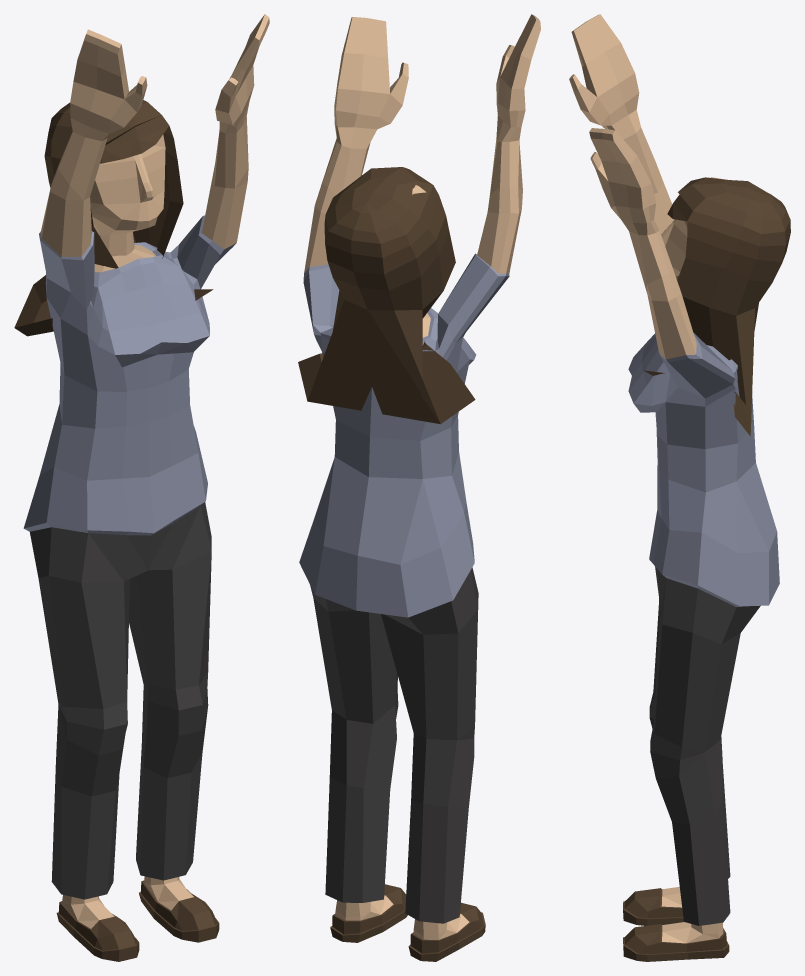
File: Female_Crowd_BothFistsUp.glb
3 views of the same model, side by side, from view 1: azimuth 30°, elevation 25°; view 2: azimuth 150°, elevation 25°; view 3: azimuth 270°, elevation 25° (orthographic). The views are drawn at different scales.
Parts seen in each view (by area): view 1: Female_Crowd_BothFistsUp; view 2: Female_Crowd_BothFistsUp; view 3: Female_Crowd_BothFistsUp.
Boxes of the visible parts, x1,y1,x2,y2 form: Female_Crowd_BothFistsUp: (14,14,269,961); Female_Crowd_BothFistsUp: (298,14,540,961); Female_Crowd_BothFistsUp: (569,14,790,961).
Bounding box in the file's own units: 0.439 × 1.94 × 0.4434.
